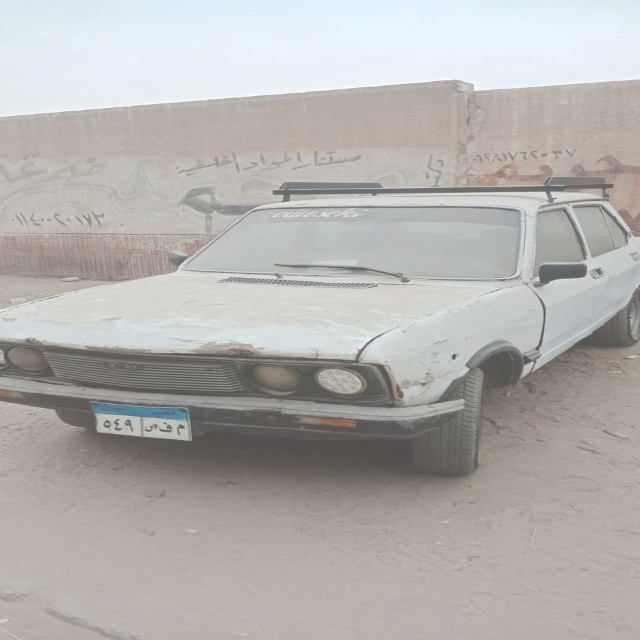License Plate: (83, 401, 194, 444)
